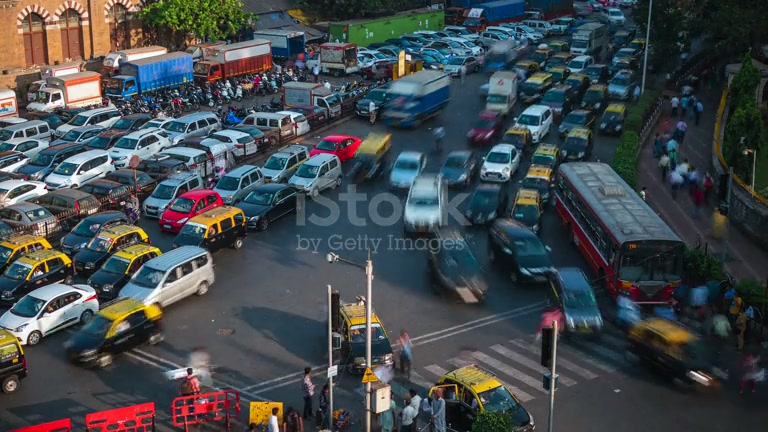bus: (551, 160, 688, 311)
car: (625, 314, 729, 396), (63, 297, 165, 370), (429, 363, 536, 431), (0, 280, 100, 347), (114, 244, 216, 309), (87, 239, 163, 305), (0, 242, 74, 309), (488, 218, 557, 287), (426, 232, 490, 305), (71, 221, 151, 279), (546, 266, 604, 339), (225, 182, 300, 232), (172, 204, 248, 252), (60, 211, 129, 257), (158, 187, 225, 234), (141, 172, 204, 220), (286, 153, 342, 198), (259, 143, 311, 184), (213, 163, 265, 204), (437, 150, 483, 192), (0, 328, 29, 394), (479, 143, 522, 184), (389, 150, 428, 189)
motorcycle: (738, 360, 768, 405)
pedestrian: (301, 367, 316, 419)
truck: (429, 363, 535, 431)
